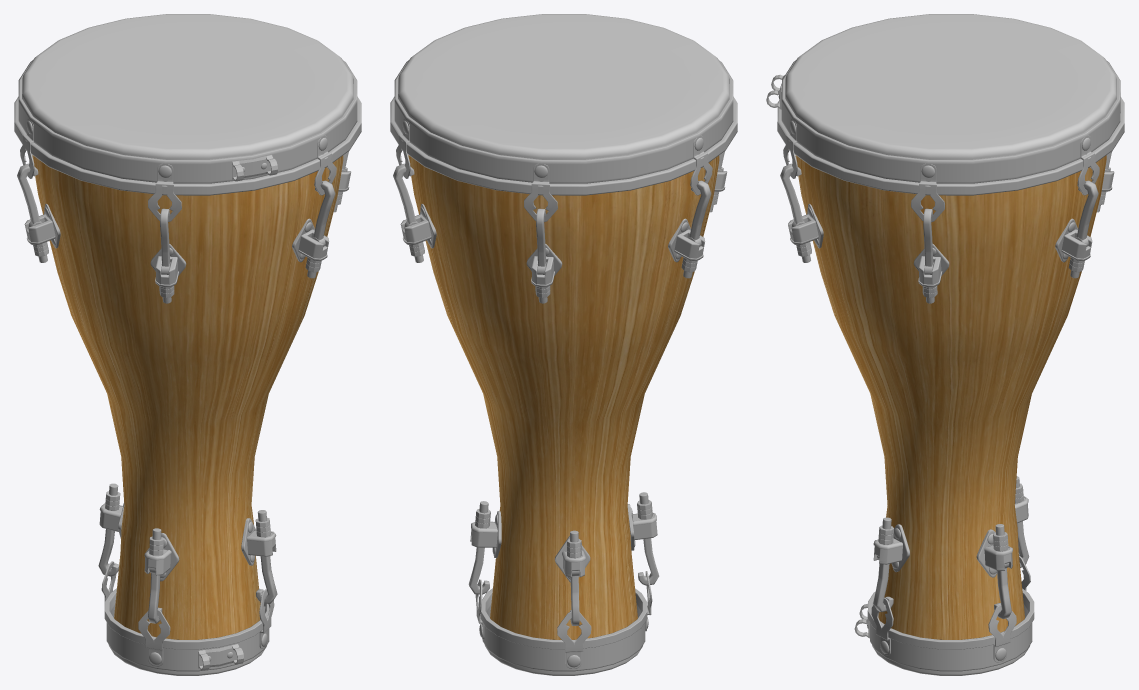
Rendered from LongDrum.fbx.
3 renders of one model, left to right at view 1: azimuth 30°, elevation 25°; view 2: azimuth 150°, elevation 25°; view 3: azimuth 270°, elevation 25°, orthographic.
Visible parts, largest first — view 1: ngomaUbeji.002; view 2: ngomaUbeji.002; view 3: ngomaUbeji.002.
Part boxes in pixels (bbox=[...]): ngomaUbeji.002: bbox=[14, 14, 361, 675]; ngomaUbeji.002: bbox=[390, 14, 737, 675]; ngomaUbeji.002: bbox=[766, 14, 1124, 675].
Bounding box in the file's own units: 5.95 × 10.11 × 5.85.
